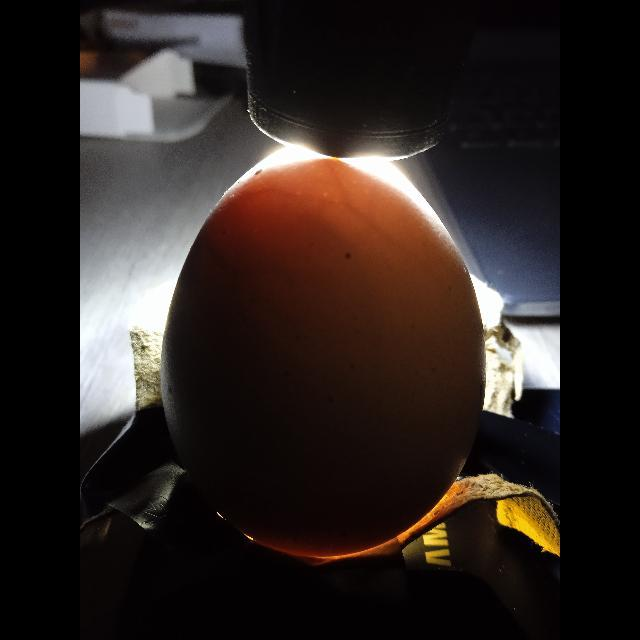Fertile: (157, 152, 498, 560)
